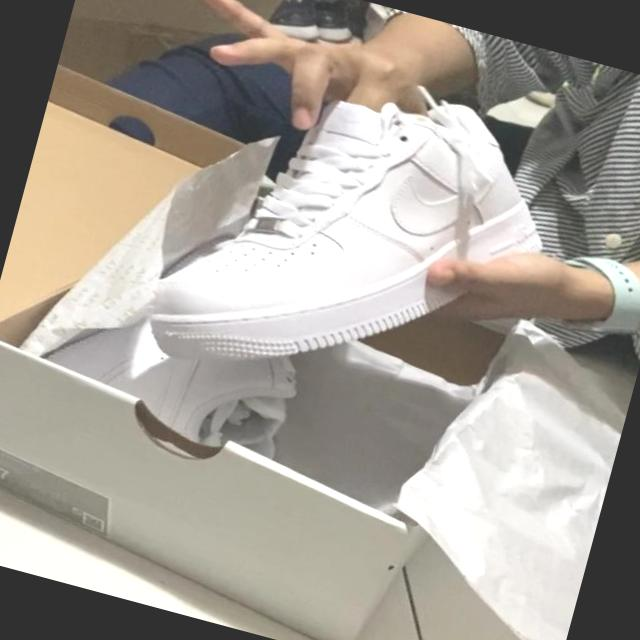nike_original_airforce: (140, 34, 573, 441)
